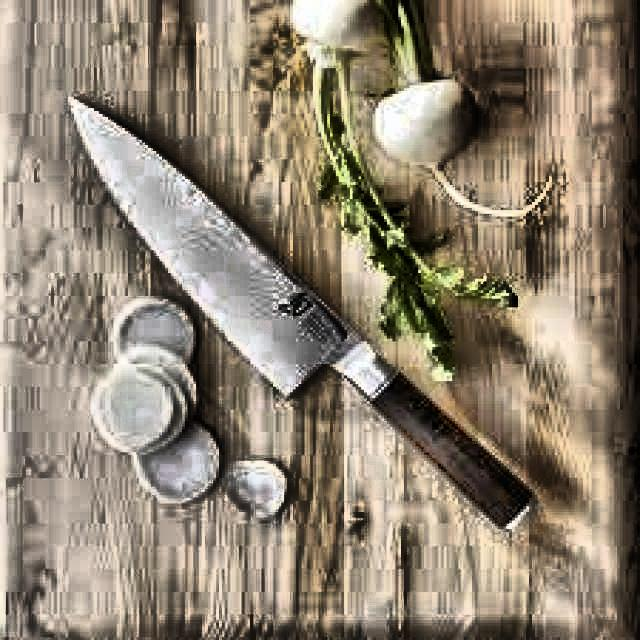knife: (69, 92, 544, 544)
